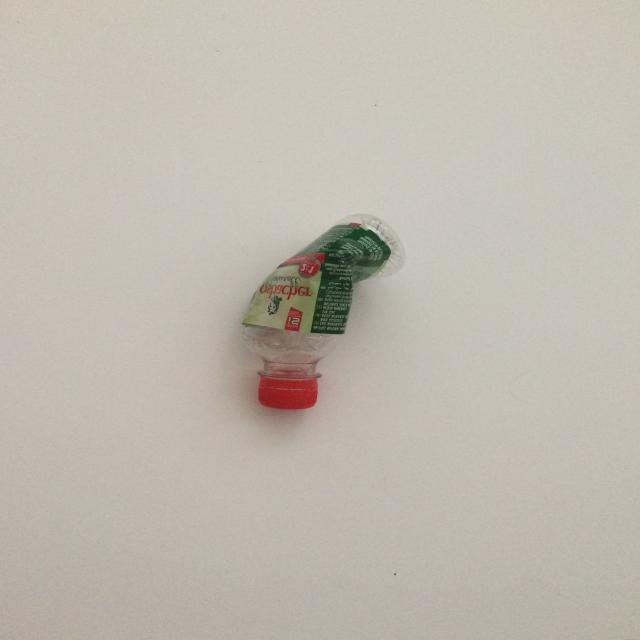plastic: (238, 212, 406, 410)
